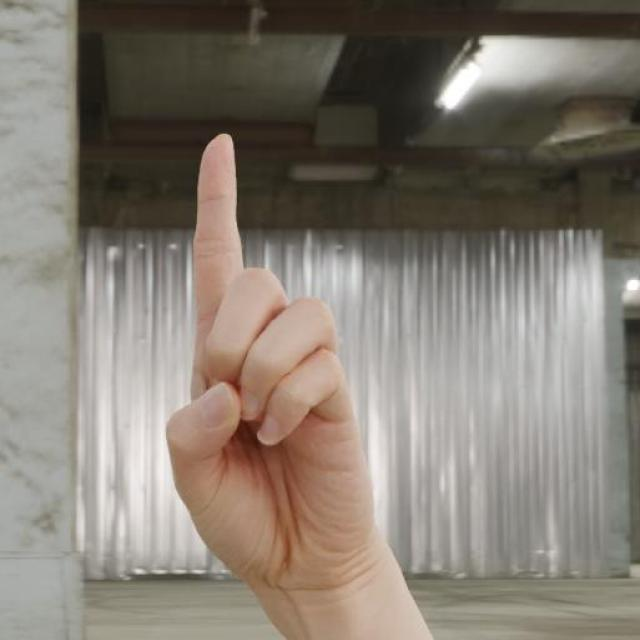D: (160, 126, 412, 584)
